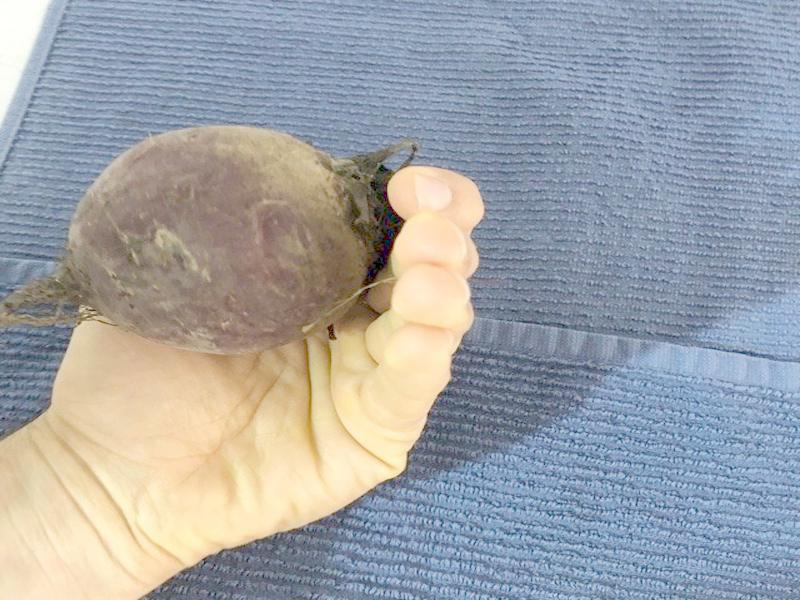Beet: (4, 127, 422, 355)
